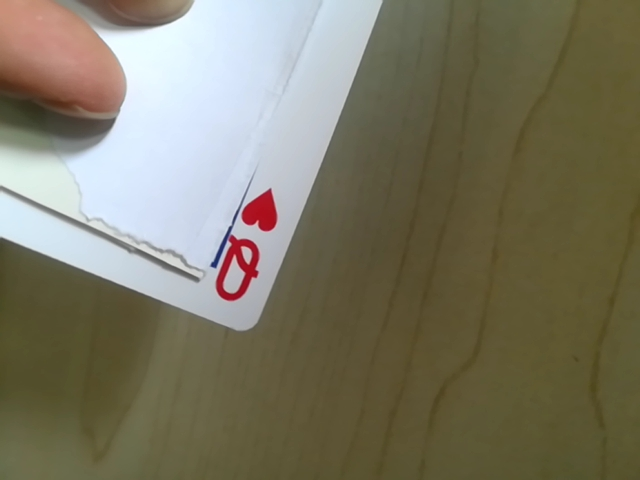hx q: (191, 185, 291, 327)
